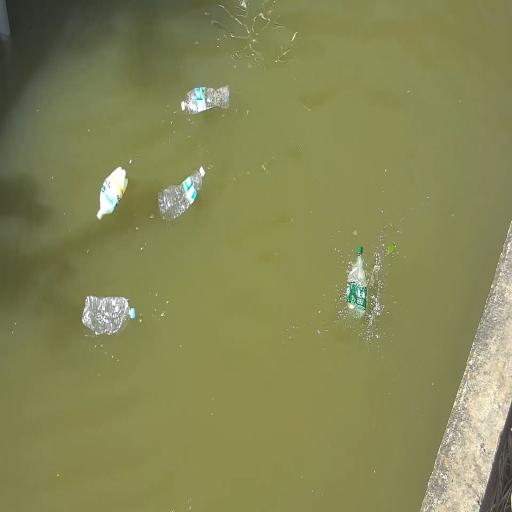plastic: (158, 166, 205, 219), (83, 296, 135, 335), (97, 167, 127, 219), (347, 247, 367, 318), (182, 86, 229, 114)
